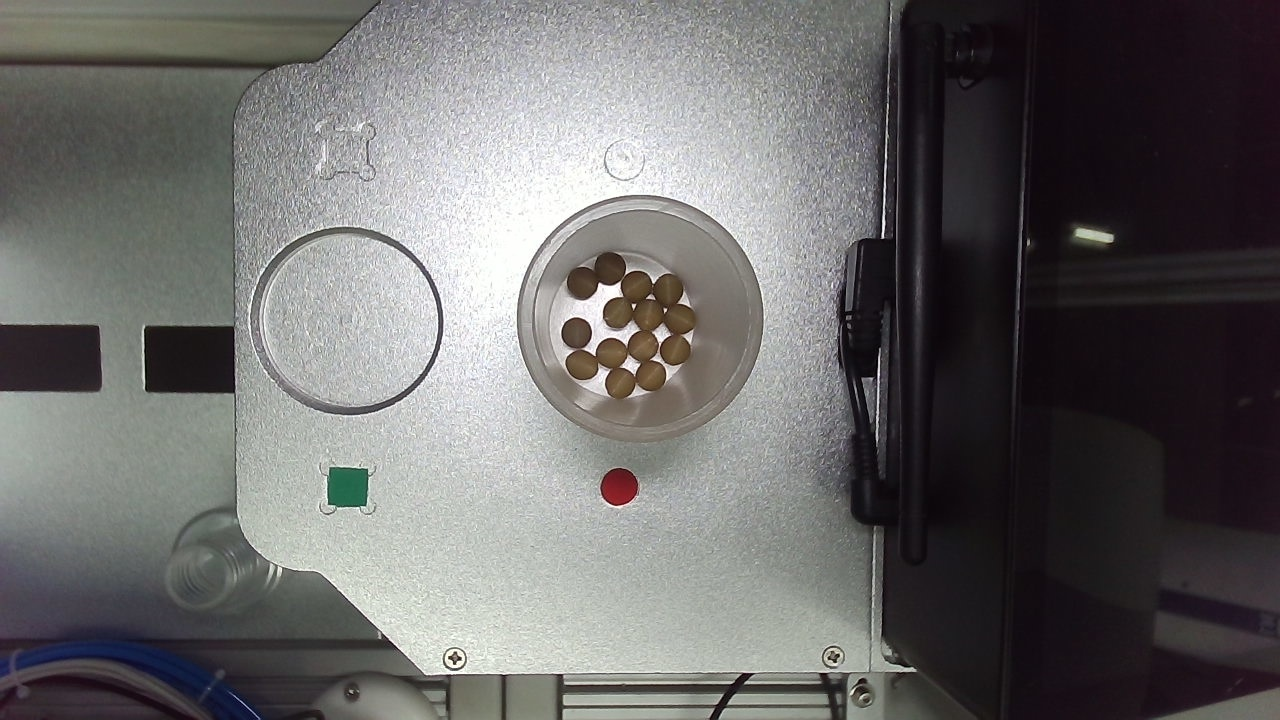XLabel: (596, 287, 630, 320)
YLabel: (375, 285, 411, 320)
none: (309, 358, 470, 520)
transparenexcept: (511, 353, 720, 564)
